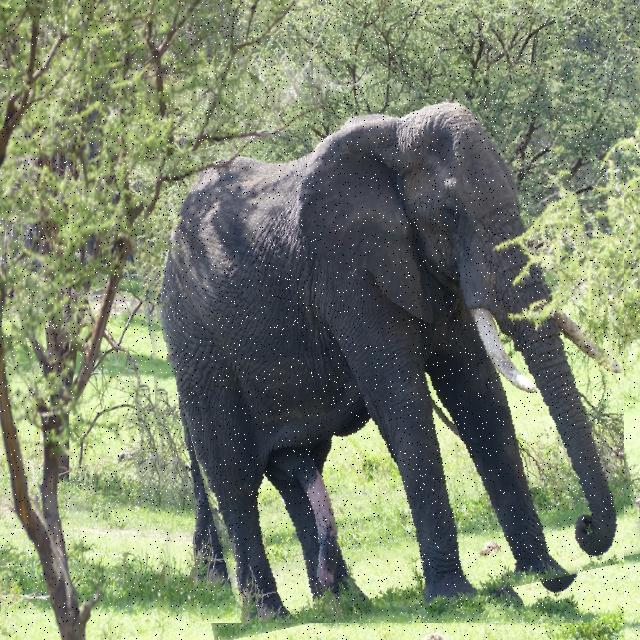elephant: (137, 93, 624, 623)
